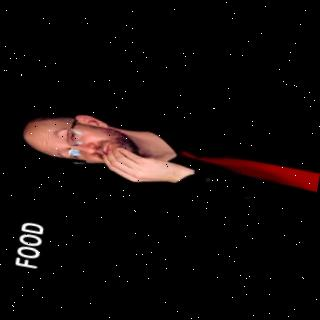Food: (12, 80, 320, 229)
